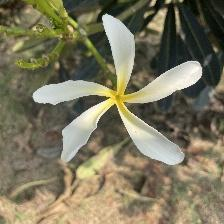champaka: (32, 10, 207, 171)
